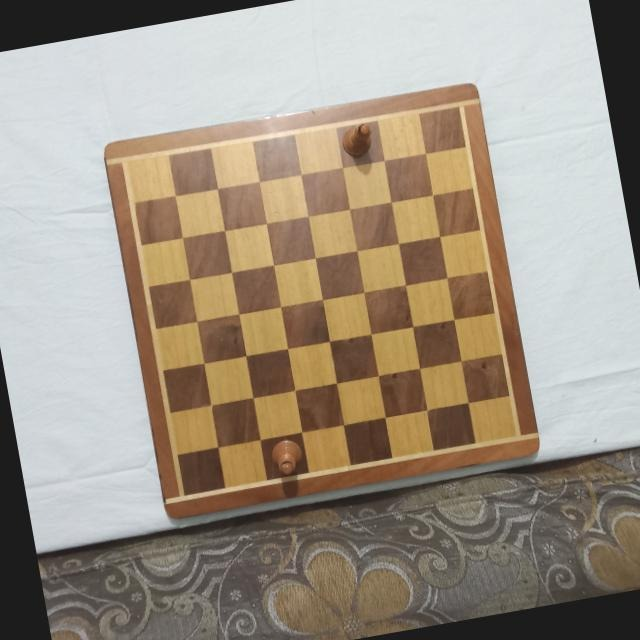white-bishop: (267, 434, 306, 479), (338, 118, 377, 157)
